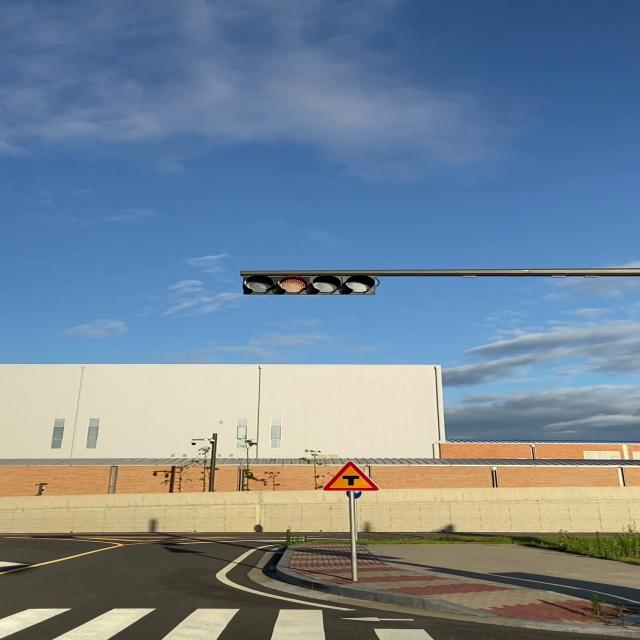yellow_light: (243, 274, 375, 295)
